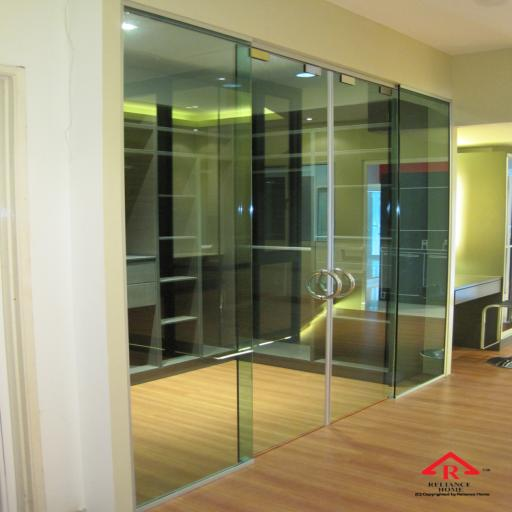Door: (121, 5, 452, 510)
